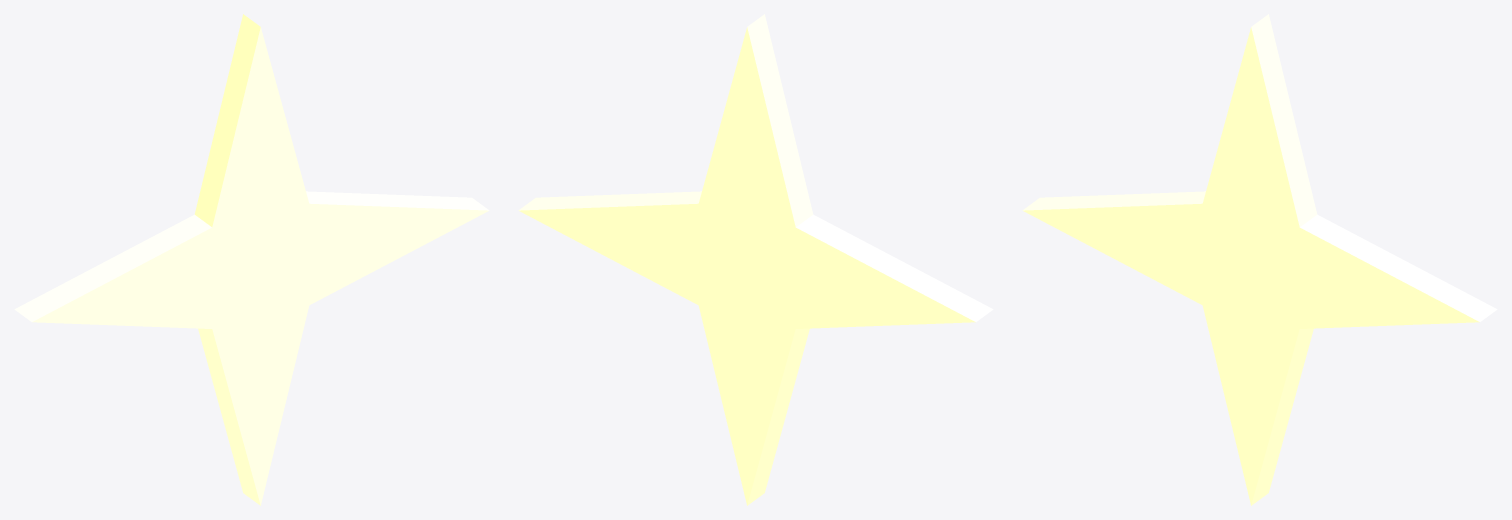
File: sparkle_star.glb
The picture shows the model from 3 angles, left to right: view 1: azimuth 30°, elevation 25°; view 2: azimuth 150°, elevation 25°; view 3: azimuth 330°, elevation 25°; orthographic projection.
Parts seen in each view (by area): view 1: sparkle_star; view 2: sparkle_star; view 3: sparkle_star.
Boxes of the visible parts, x1,y1,x2,y2 form: sparkle_star: (14,14,489,505); sparkle_star: (518,14,993,505); sparkle_star: (1022,14,1497,505).
Size of the model in its own units: 0.06 by 0.06 by 0.004.
